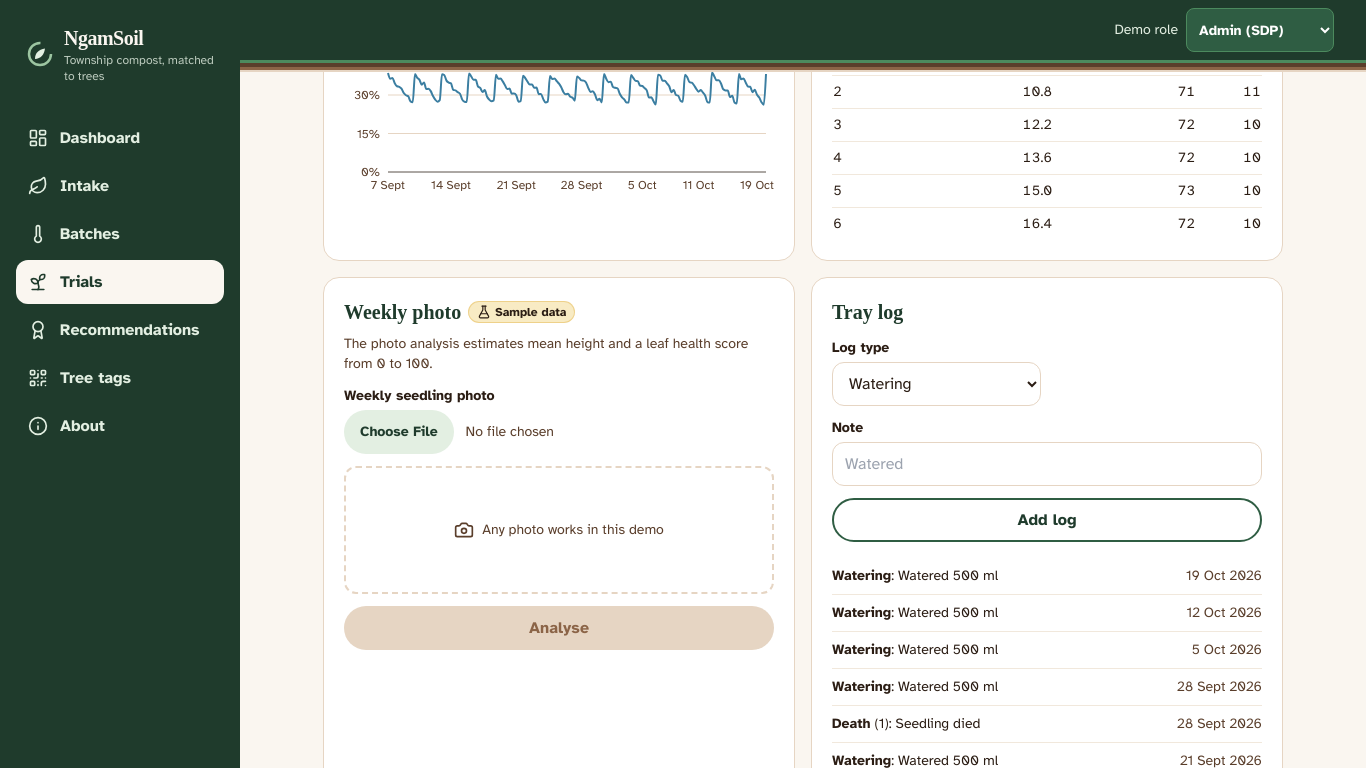
Scenario: TrialDetailPage › a death log with no seedlings flags only the number field
The image size is (1366, 768).
(page scrolled)
Select "Death" in the dropdown labelled "Log type". click: (936, 384)
box: [832,362,1041,406]
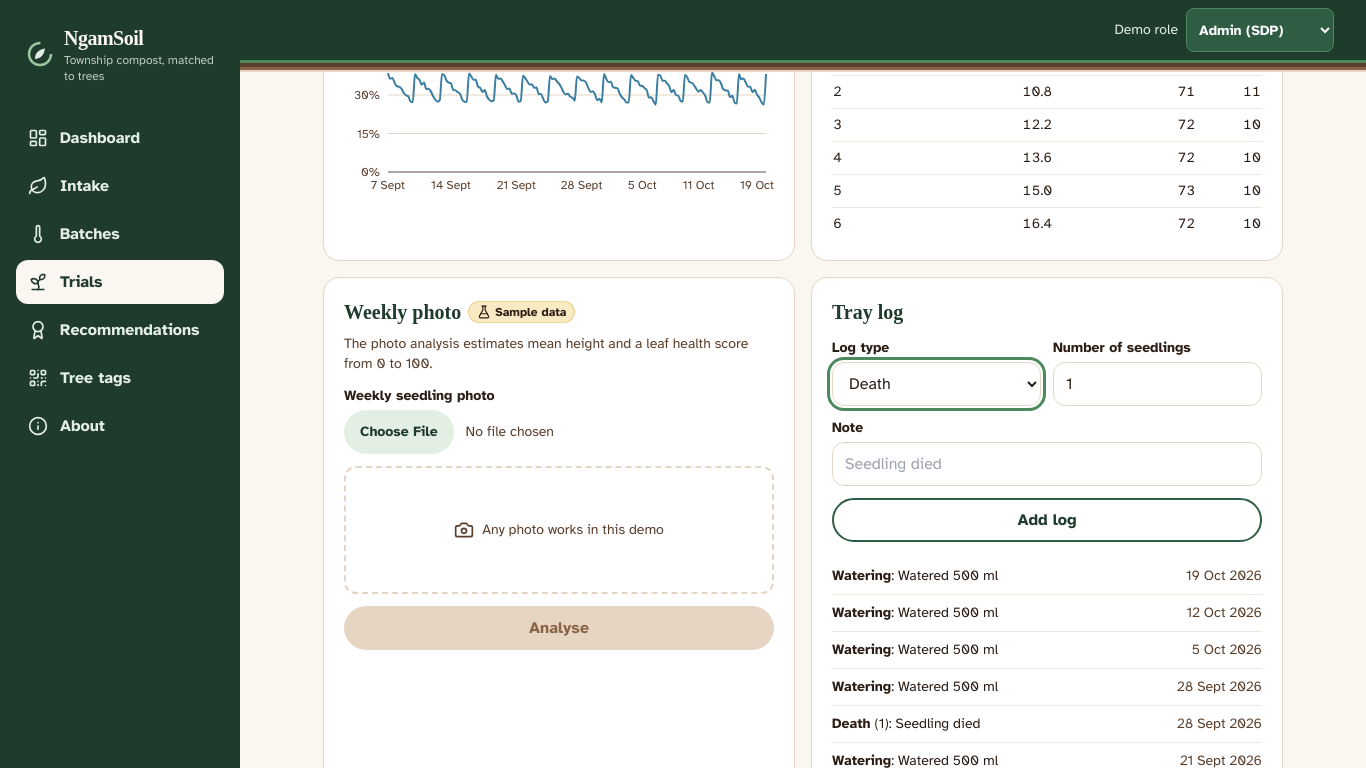
Replace the text in the number field labelled "Number of seedlings" with "0". click: (1158, 384)
box: [1053,362,1262,406]
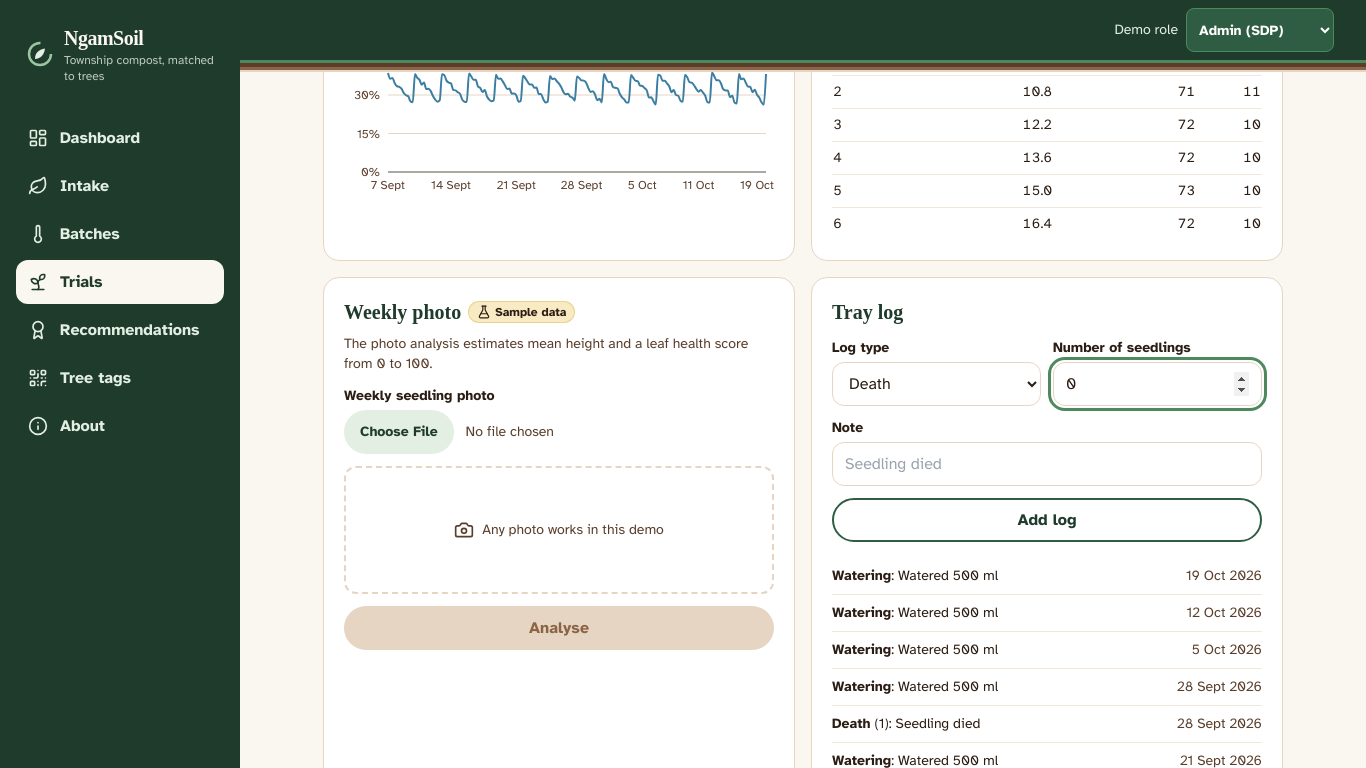
Click the button "Add log". click: (1047, 520)
box: [832,498,1262,542]
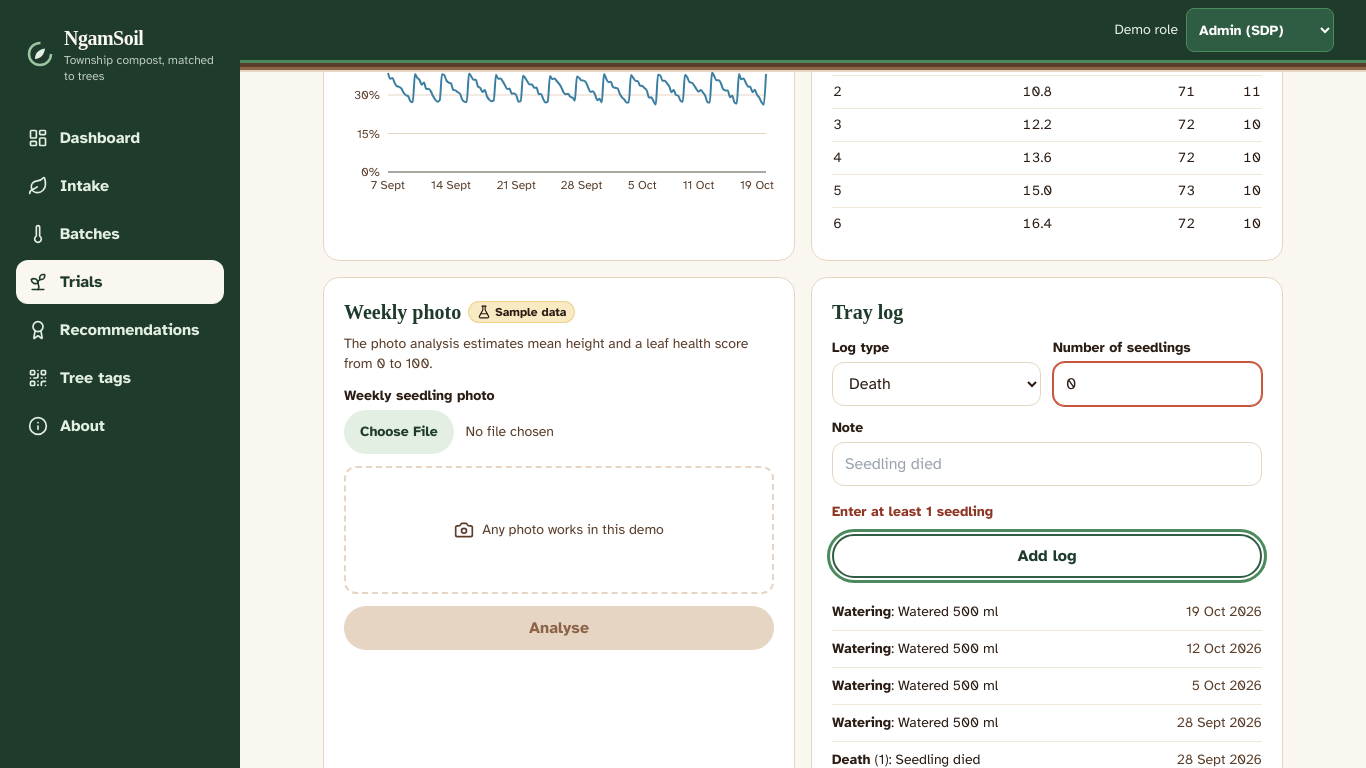
Expected: the text "Enter at least 1 seedling" is shown, [832,503,993,520]
